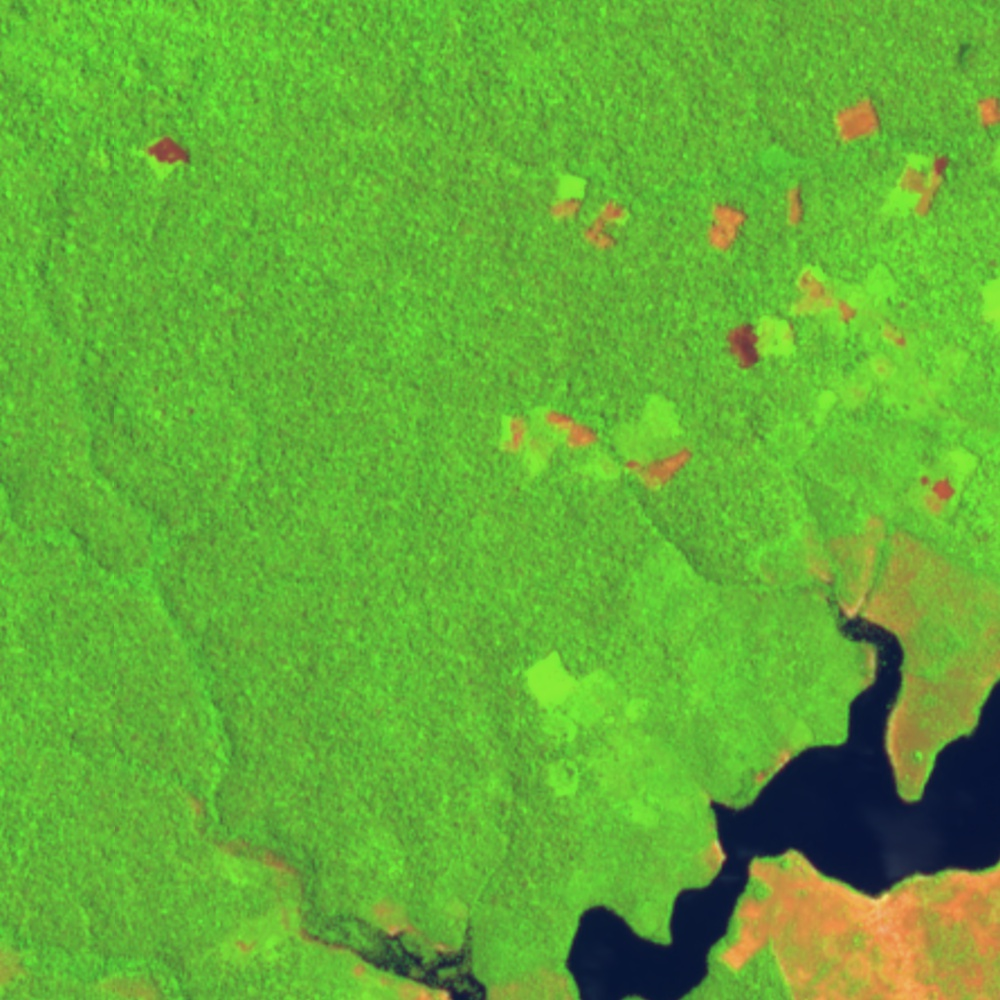legal: (806, 517, 1000, 804), (721, 847, 1000, 1000), (498, 396, 695, 503), (725, 269, 856, 375), (524, 650, 647, 742), (186, 795, 300, 883), (547, 175, 626, 251), (912, 443, 983, 523), (879, 151, 955, 217), (373, 904, 457, 960), (872, 295, 914, 378), (363, 961, 452, 1000), (702, 201, 748, 258), (835, 93, 880, 149), (140, 132, 192, 179), (296, 925, 356, 959), (749, 749, 795, 789), (698, 817, 728, 871), (783, 179, 806, 223), (981, 274, 1000, 327), (975, 90, 1000, 128), (231, 938, 263, 956)
